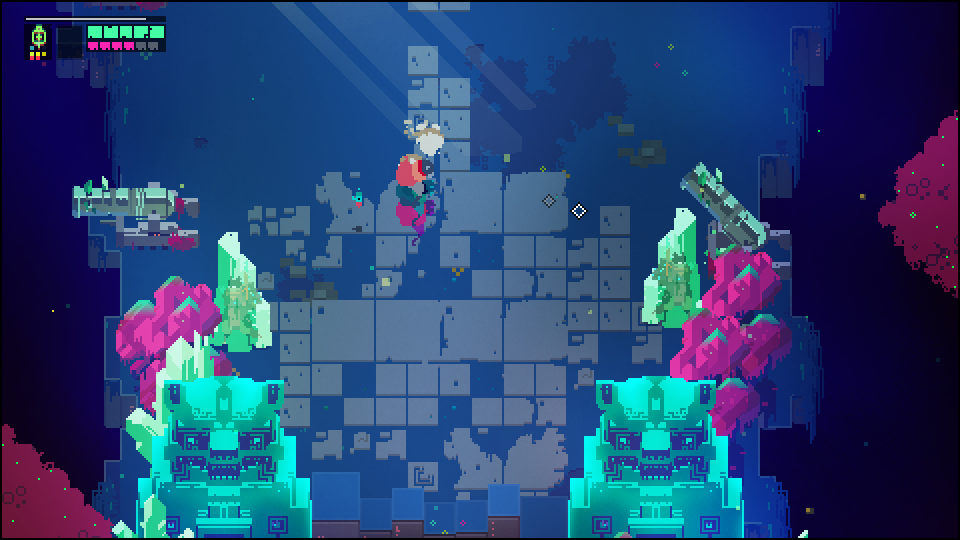player: (391, 144, 440, 193)
